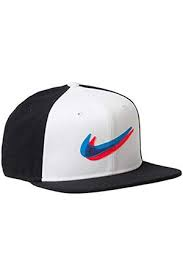nike: (68, 123, 140, 169)
